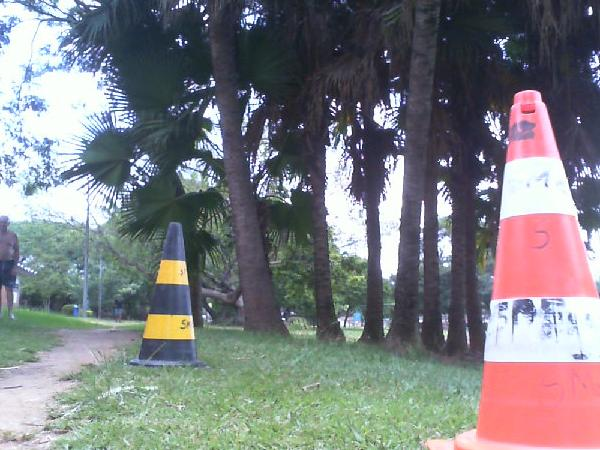0 cone: (427, 89, 600, 450), (128, 221, 209, 368)
